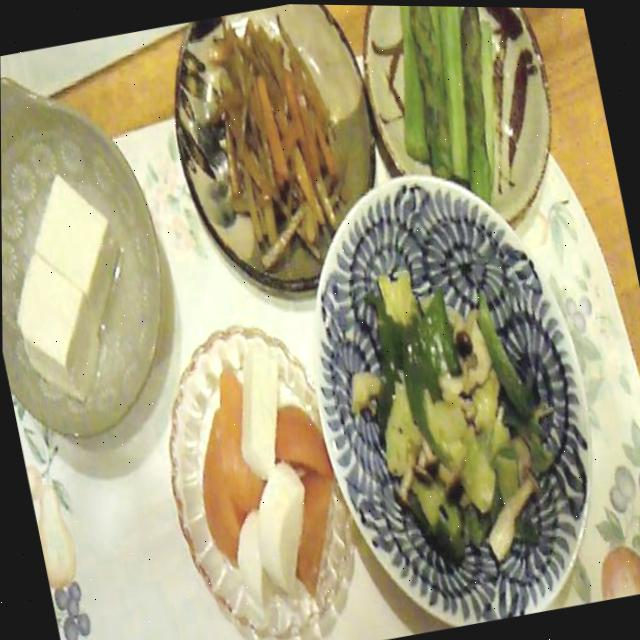豆腐料理: (0, 39, 197, 445)
